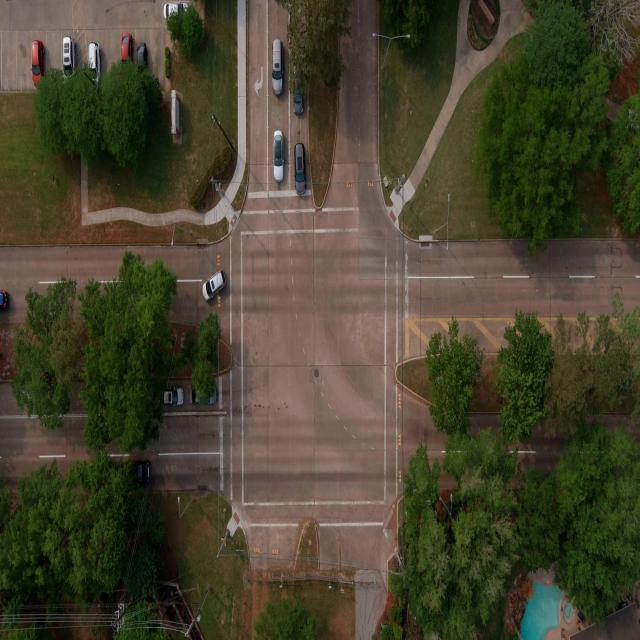Car: (268, 120, 288, 194), (202, 270, 228, 302), (31, 40, 45, 86), (294, 143, 306, 195), (272, 39, 282, 96), (62, 37, 75, 76), (191, 386, 217, 405), (163, 2, 189, 20), (171, 91, 181, 136), (134, 460, 152, 484), (88, 41, 101, 74), (163, 387, 184, 406), (121, 33, 133, 63), (293, 88, 304, 116), (137, 42, 147, 70), (0, 290, 9, 310), (189, 388, 197, 404)
